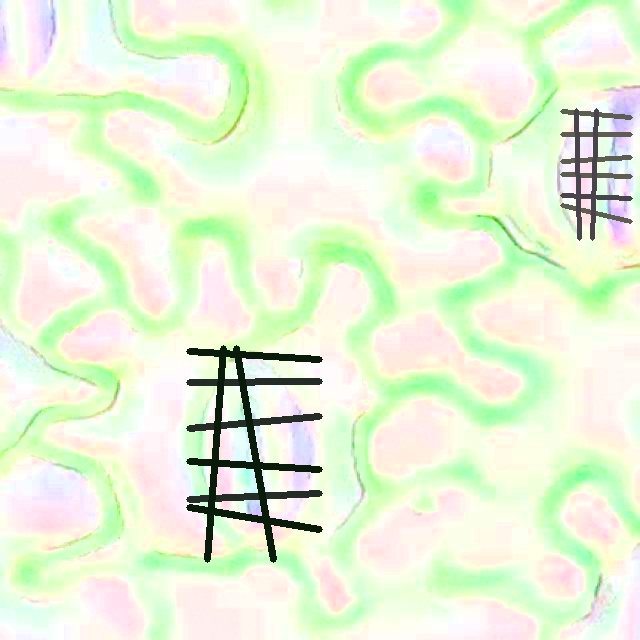open: (186, 345, 322, 562), (560, 109, 632, 240)
